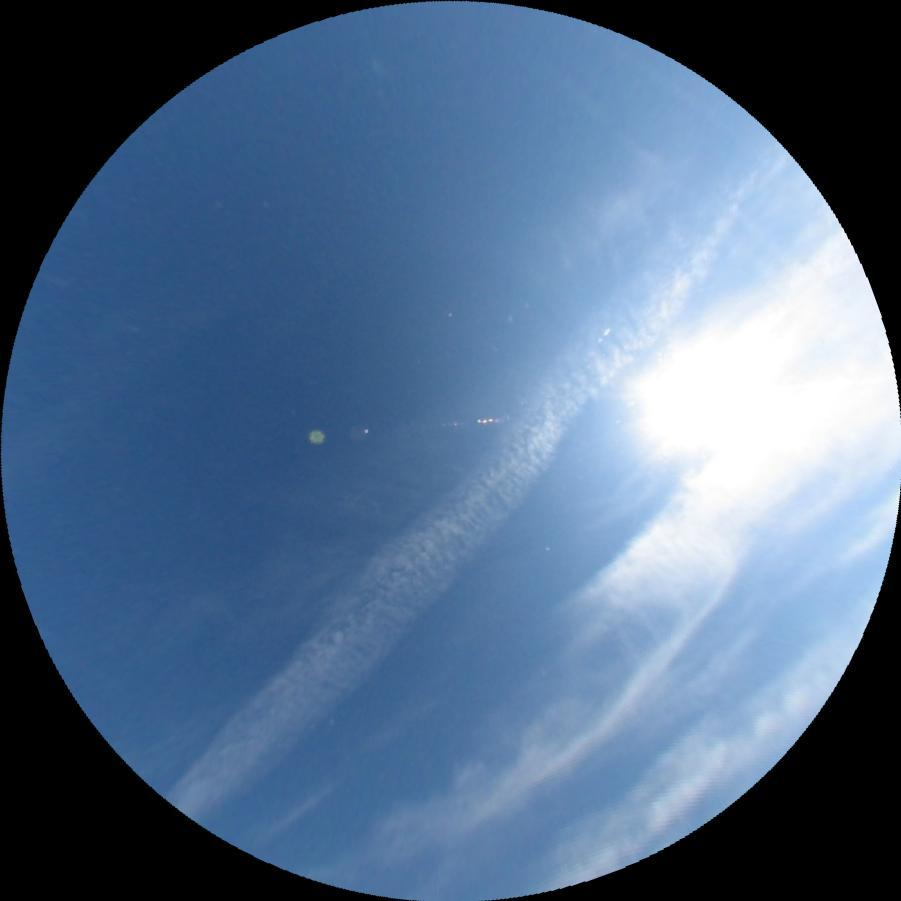contrail veryold: (161, 117, 810, 847)
sun: (640, 342, 774, 450)
